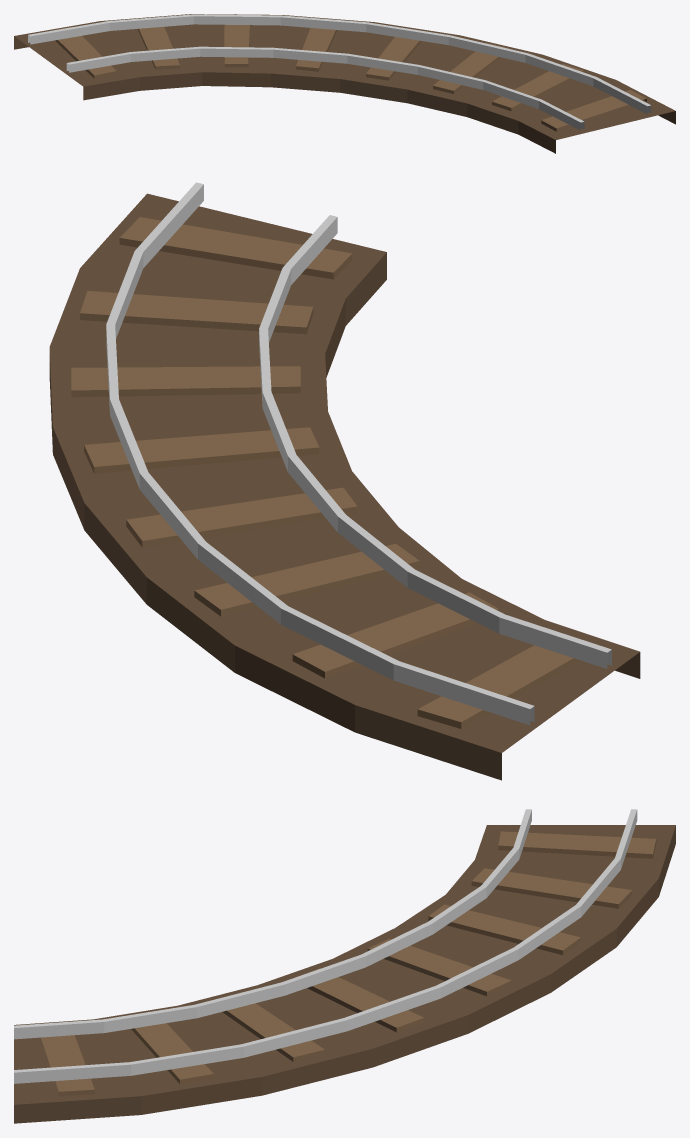
File: Track turn (5).fbx
The picture shows the model from 3 angles, top to bottom: view 1: azimuth 30°, elevation 25°; view 2: azimuth 150°, elevation 25°; view 3: azimuth 270°, elevation 25°; orthographic projection. The views are drawn at different scales.
Visible parts, largest first — view 1: 1 x Curve; view 2: 1 x Curve; view 3: 1 x Curve.
Boxes of the visible parts, bbox=[...] form: 1 x Curve: bbox=[14, 14, 675, 153]; 1 x Curve: bbox=[49, 182, 640, 780]; 1 x Curve: bbox=[14, 809, 675, 1123].
Size of the model in its own units: 1.75 by 0.1011 by 1.75.
